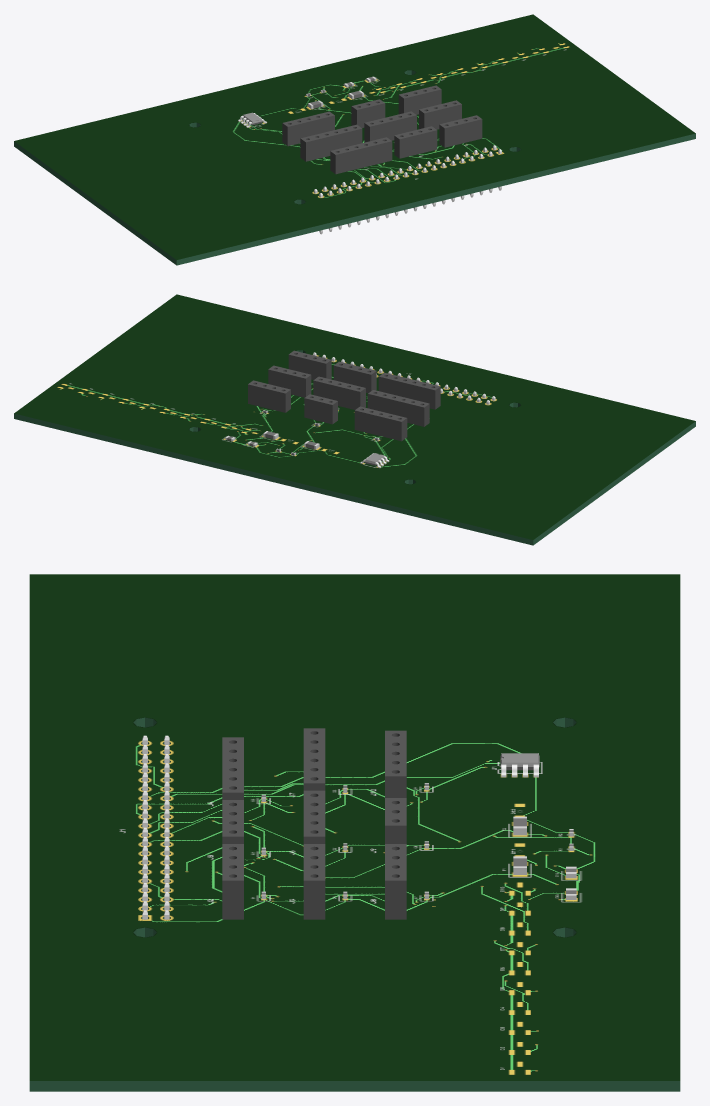
The model's file is t3-board.glb.
The picture shows the model from 3 angles, top to bottom: view 1: azimuth 30°, elevation 25°; view 2: azimuth 150°, elevation 25°; view 3: azimuth 270°, elevation 25°; orthographic projection. The views are drawn at different scales.
Parts seen in each view (by area): view 1: Box0, J4, J7, J10, J6, J1, J2, J3, J8, J5, J9; view 2: Box0, J7, J10, J4, J6, J8, J5, J2, J3, J9, J1; view 3: Box0, J1, J5, J2, J8, J10, J7, J4, J6, J9, J3, U1.
Part boxes in pixels (x1,y1,x2,y2): Box0: (14,14,695,265); J4: (330,137,392,174); J7: (300,124,362,161); J10: (282,111,334,146); J6: (364,111,416,142); J1: (314,145,501,234); J2: (439,115,482,147); J3: (394,126,437,158); J8: (398,85,441,114); J5: (419,100,461,129); J9: (351,99,385,127); Box0: (14,294,695,545); J7: (367,390,429,426); J10: (354,406,407,441); J4: (378,372,440,409); J6: (313,376,365,409); J8: (248,380,290,412); J5: (268,365,311,397); J2: (288,350,331,379); J3: (333,361,376,393); J9: (304,394,337,424); J1: (313,352,495,404); Box0: (29,574,680,1091); J1: (142,735,169,919); J5: (303,844,325,919); J2: (222,844,243,919); J8: (385,844,406,919); J10: (385,730,406,797); J7: (303,728,325,790); J4: (222,737,243,799); J6: (303,790,325,843); J9: (385,798,406,843); J3: (222,800,243,843); U1: (500,753,539,777).
Size of the model in its own units: 140 by 14.6 by 76.
Materials: 9 (2 with a texture image).
